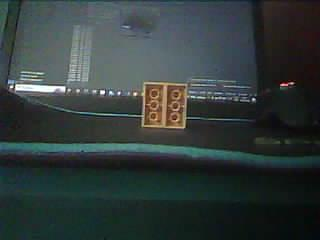lego: (142, 81, 188, 128)
